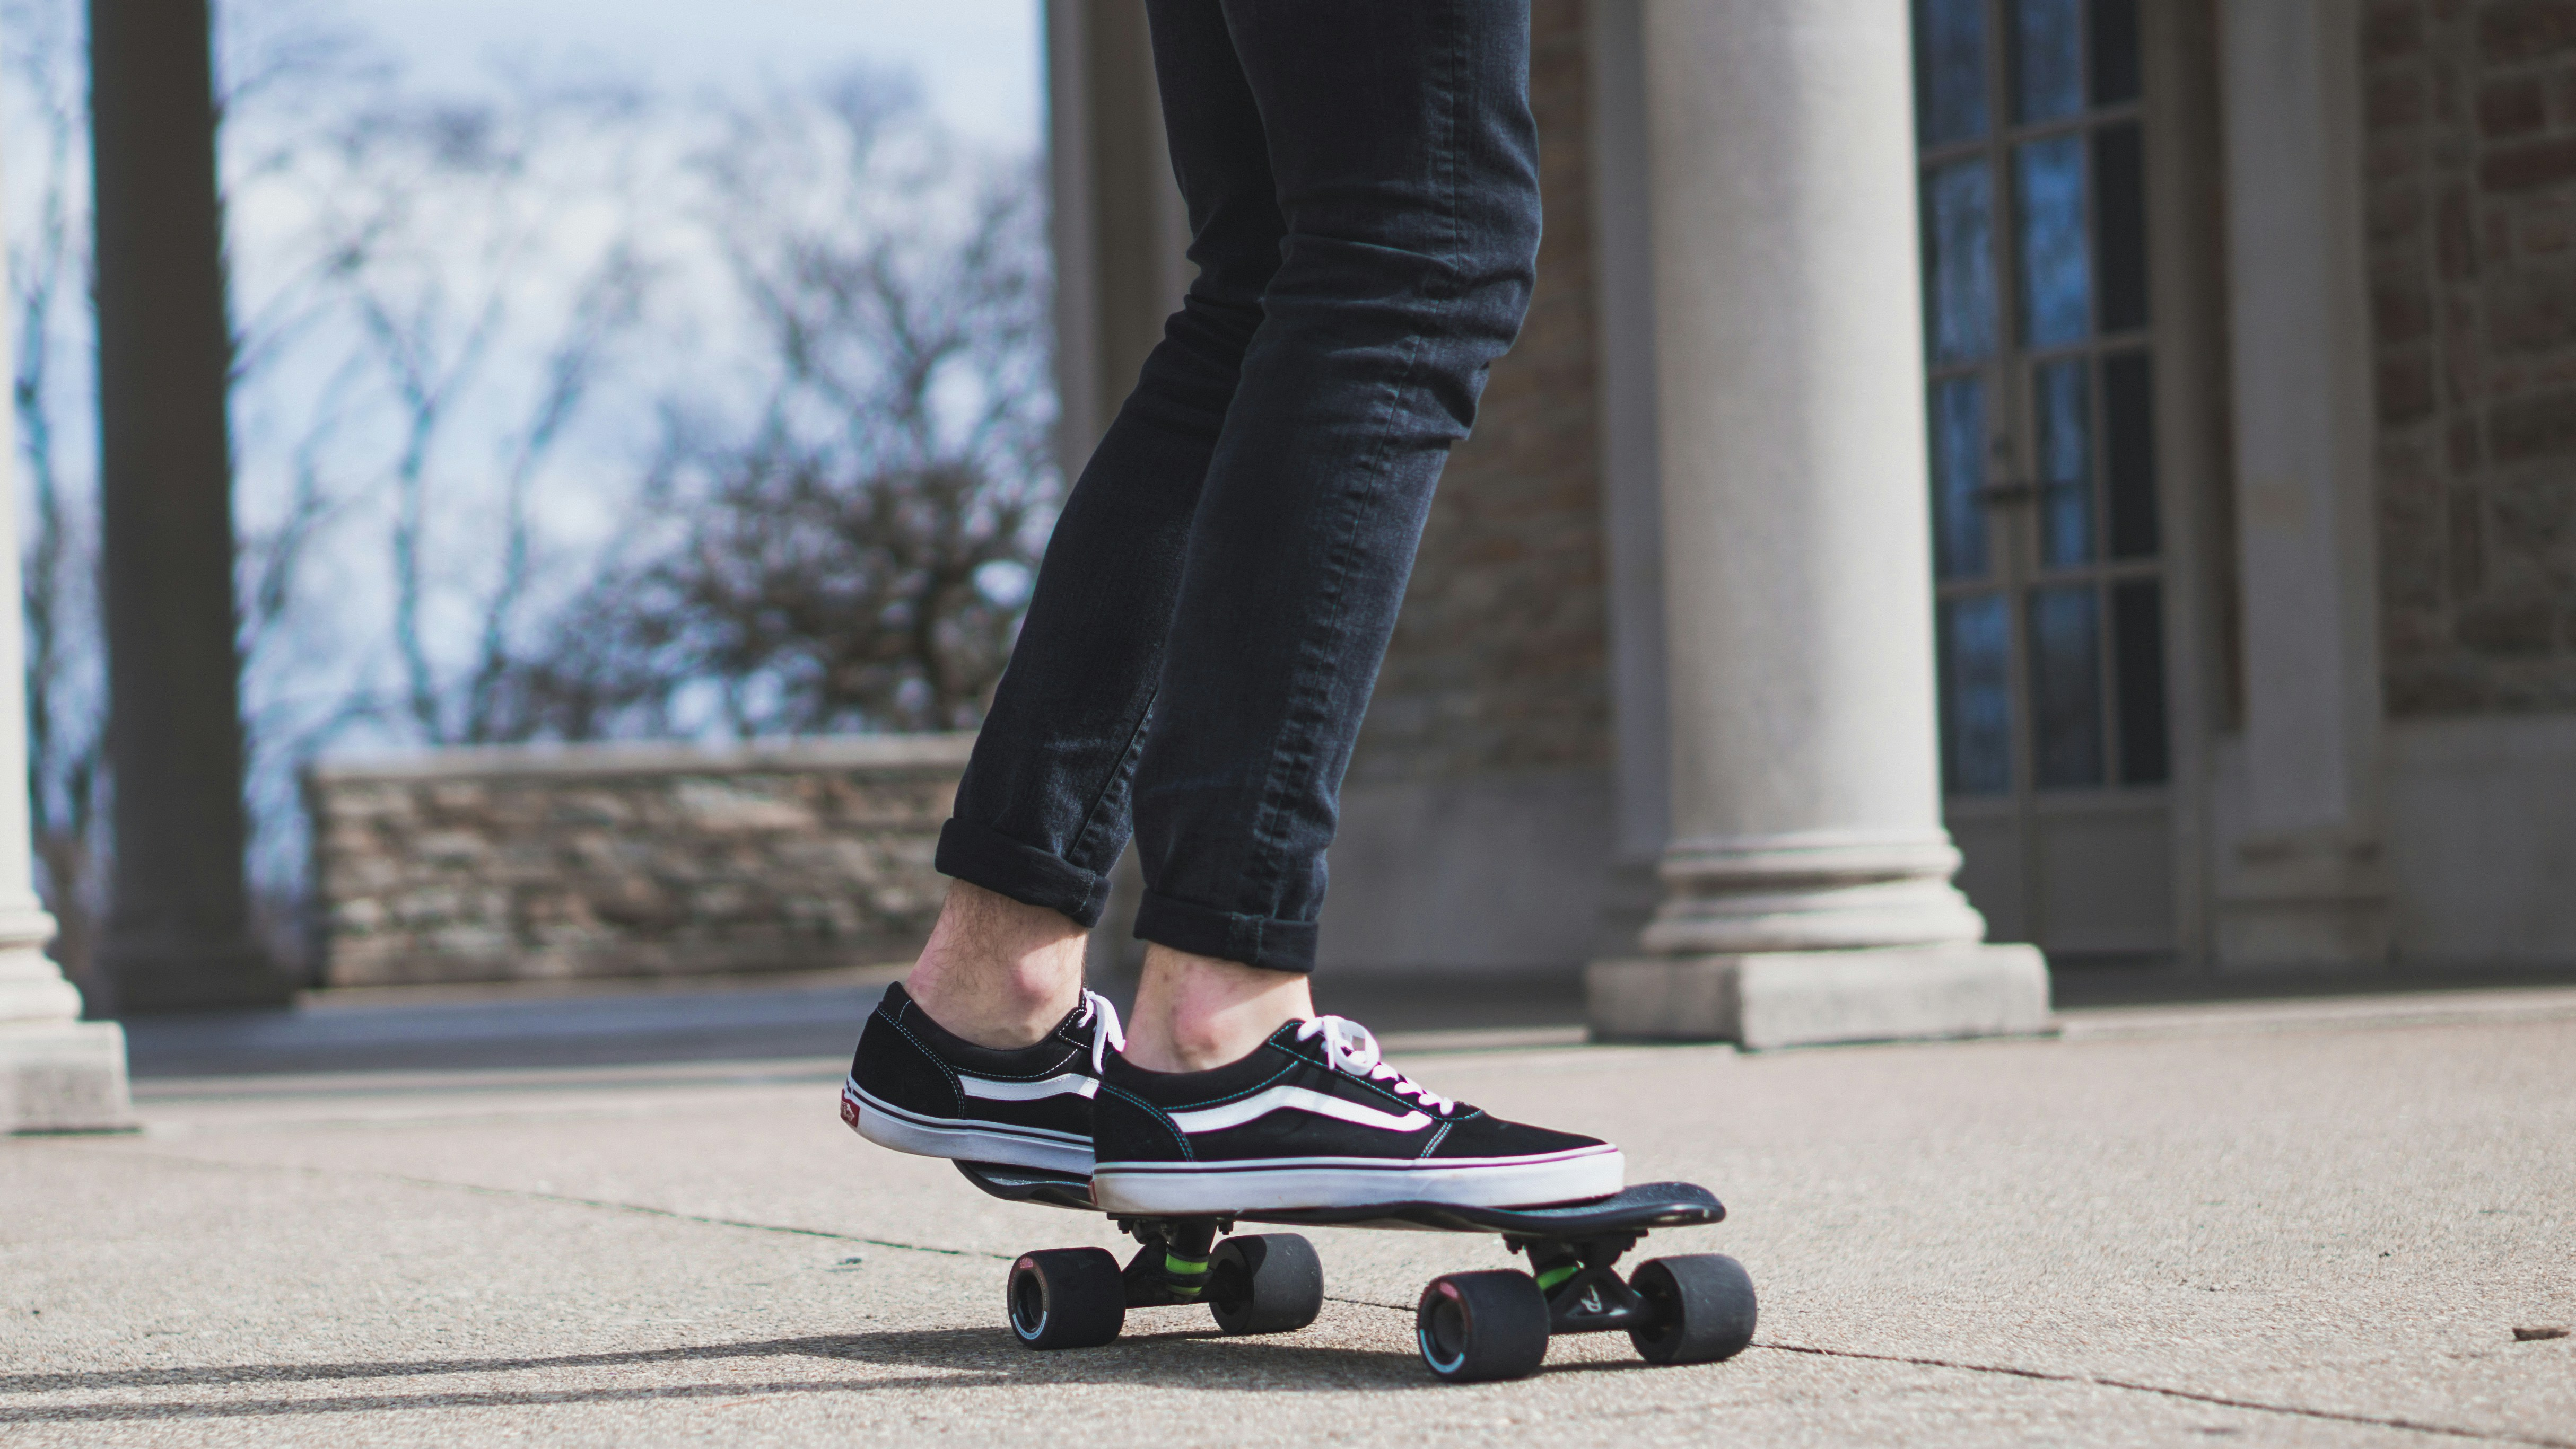Footwear: (812, 962, 1688, 1210), (1077, 1019, 1645, 1200)
